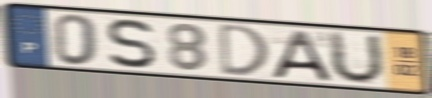0: (50, 12, 99, 68)
8: (165, 22, 211, 73)
A: (269, 28, 335, 83)
D: (217, 21, 271, 78)
S: (105, 17, 158, 71)
U: (329, 29, 387, 86)
